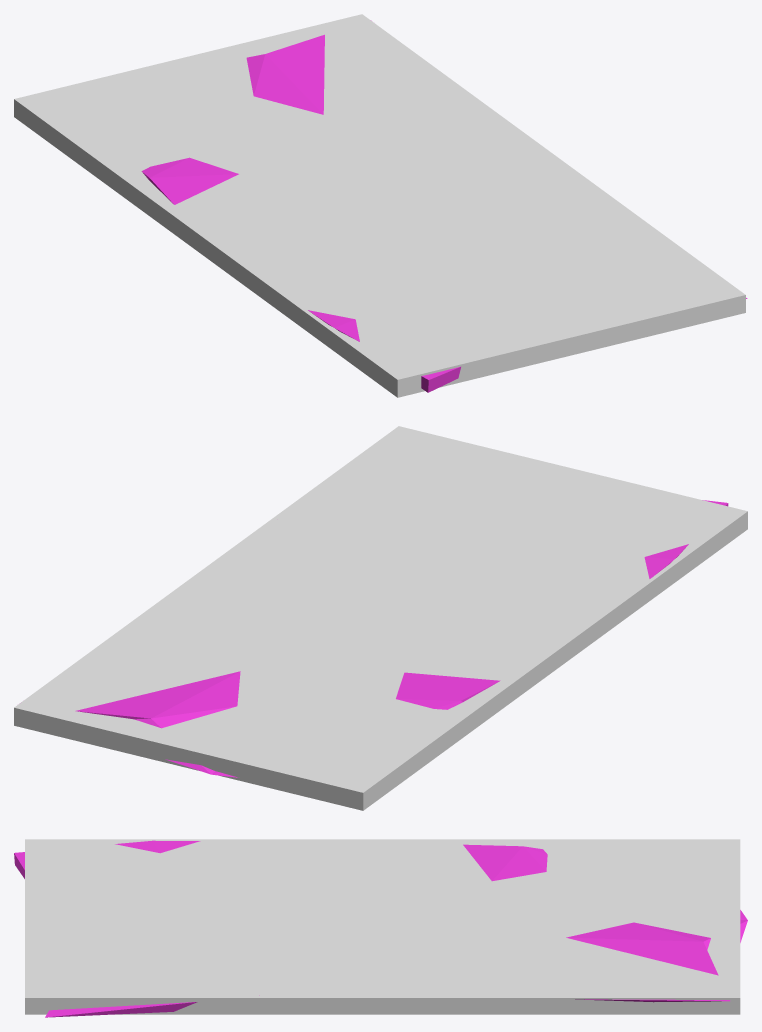
File: Beach Towel 6.glb
3 views of the same model, one above another, from view 1: azimuth 30°, elevation 25°; view 2: azimuth 150°, elevation 25°; view 3: azimuth 270°, elevation 25° (orthographic). The views are drawn at different scales.
Parts seen in each view (by area): view 1: colonly_Towel 6, Towel 6; view 2: colonly_Towel 6, Towel 6; view 3: colonly_Towel 6, Towel 6.
Boxes of the visible parts, x1,y1,x2,y2 form: colonly_Towel 6: [14, 14, 745, 397]; Towel 6: [141, 20, 747, 392]; colonly_Towel 6: [14, 426, 747, 810]; Towel 6: [75, 500, 728, 777]; colonly_Towel 6: [25, 839, 740, 1014]; Towel 6: [14, 840, 747, 1017].
Bounding box in the file's own units: 1.07 × 0.0841 × 2.02.
